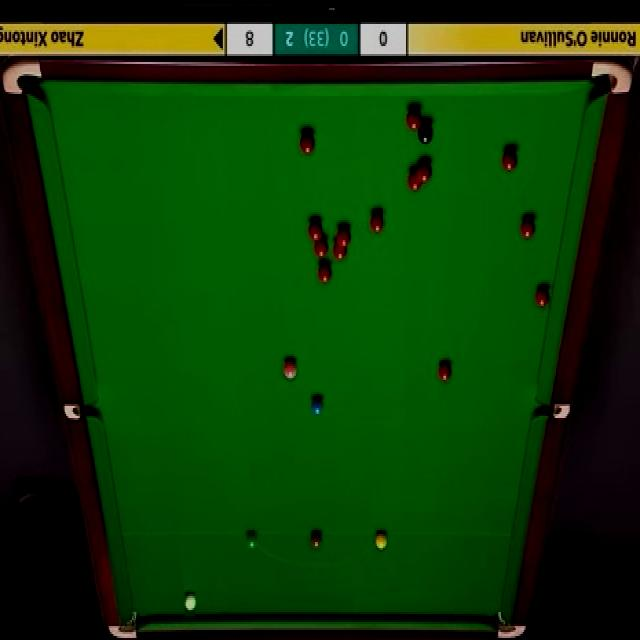black-ball: (416, 116, 434, 148)
blue-ball: (308, 393, 324, 418)
brown-ball: (309, 529, 323, 549)
green-ball: (246, 528, 260, 550)
pink-ball: (280, 356, 299, 384)
red-ball: (404, 103, 423, 130), (520, 214, 537, 242), (415, 158, 434, 183), (316, 260, 334, 286), (534, 284, 552, 310), (502, 147, 518, 173), (368, 208, 384, 232), (300, 130, 315, 155), (336, 224, 352, 247), (332, 240, 349, 261), (406, 170, 422, 192), (437, 361, 452, 384), (308, 220, 323, 242), (310, 238, 326, 256)
white-ball: (182, 588, 198, 615)
yellow-ball: (374, 530, 388, 550)
